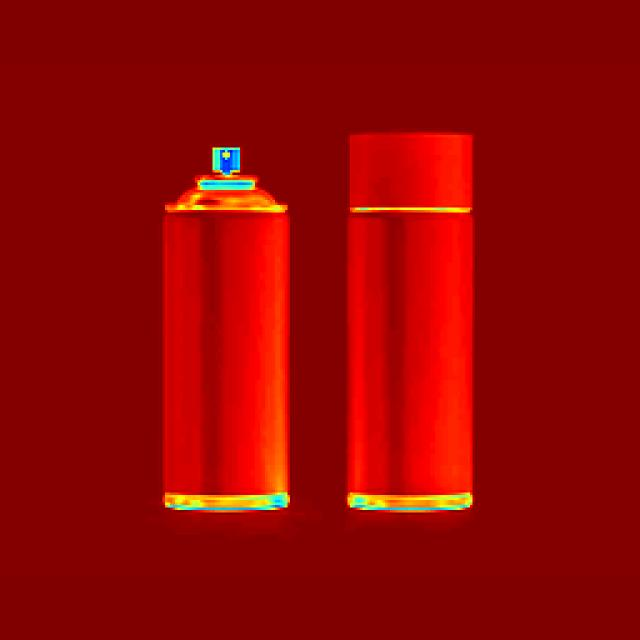Aerosol Cans: (335, 123, 492, 515), (155, 144, 302, 520)
